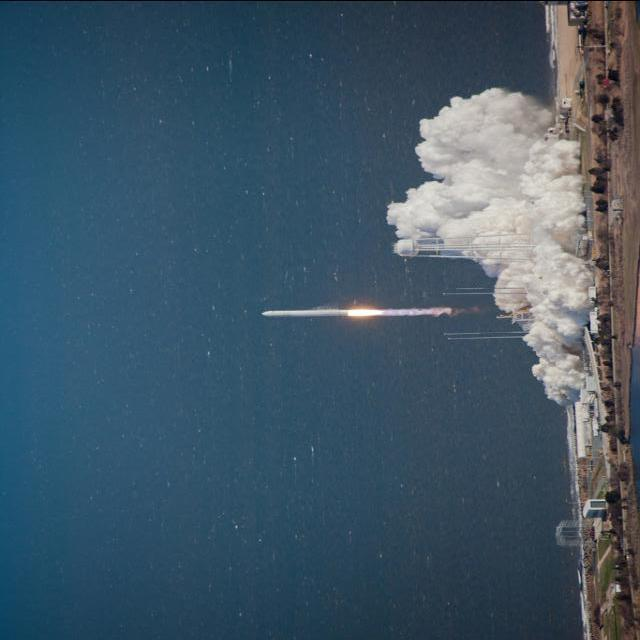missile: (251, 297, 460, 333)
